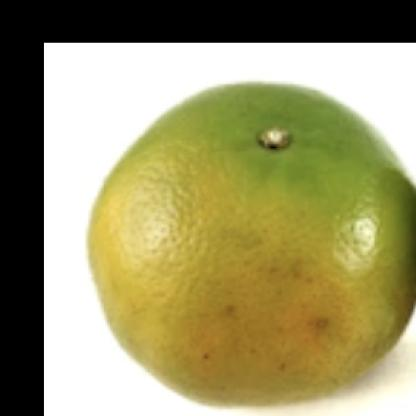fresh: (90, 81, 416, 404)
